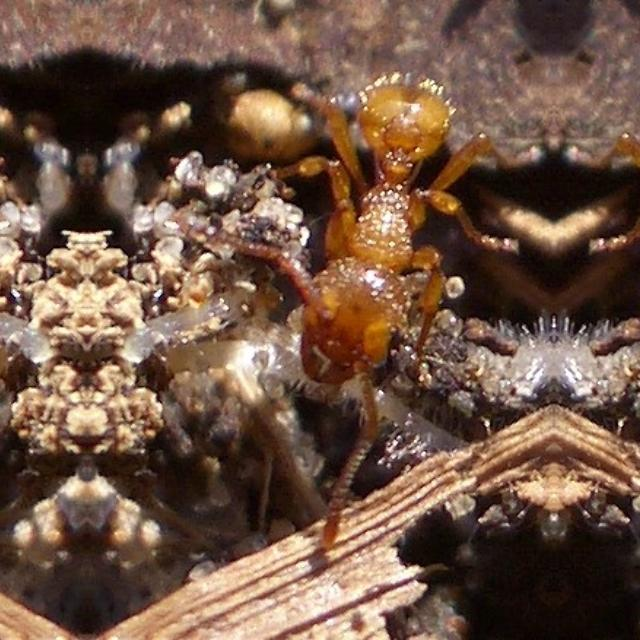Myrmica: (252, 64, 524, 436), (582, 62, 640, 436)
